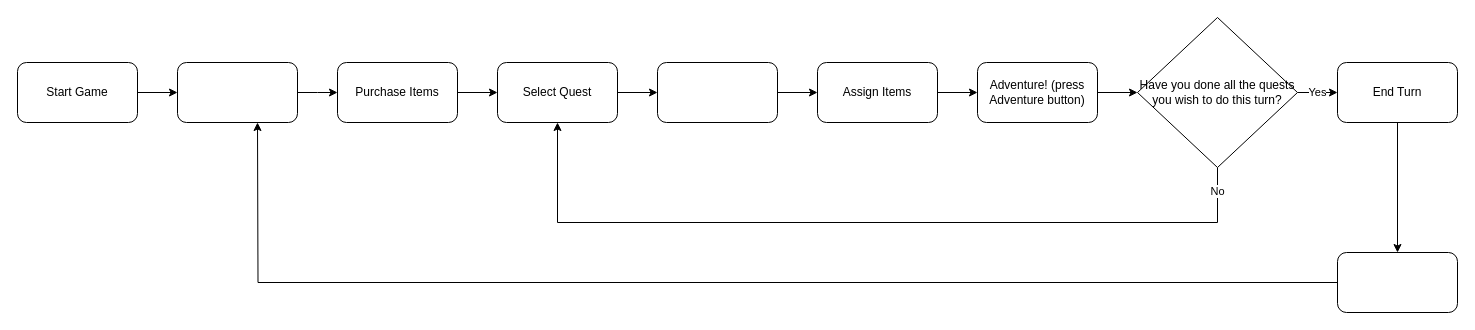
The diagram is 1475 pixels wide and 330 high, and some of its shapes have lost their labels. Here are the shapes that lost their labels. From the top down, the centre of each, then its label:
point 237,92: Recruit Adventurers
point 717,92: Assign Adventurers
point 1397,282: View Outcomes and make plans for this turn
